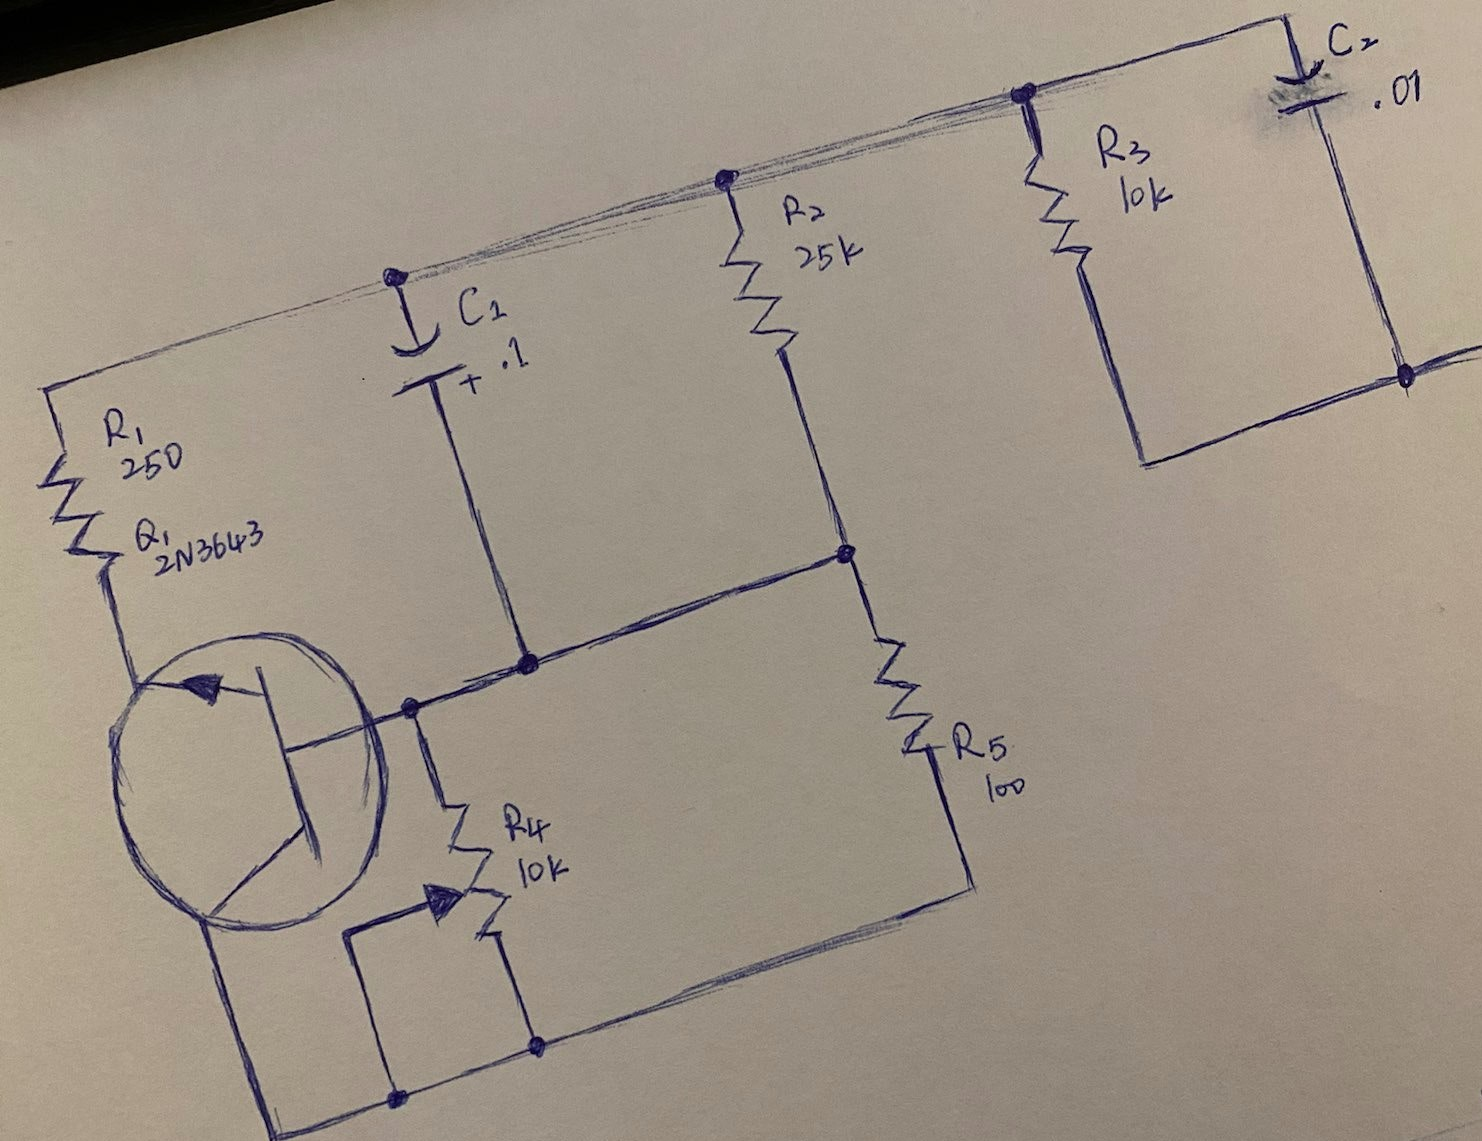capacitor.polarized: (388, 322, 485, 402)
capacitor.unpolarized: (1270, 61, 1348, 116)
junction: (1002, 73, 1058, 117), (954, 871, 1008, 916), (821, 535, 870, 580), (373, 250, 419, 292), (1387, 348, 1424, 400), (247, 1109, 306, 1141), (503, 647, 550, 686), (388, 692, 434, 730), (707, 157, 745, 201), (1121, 437, 1160, 482), (513, 1027, 557, 1065), (377, 1080, 419, 1118), (26, 372, 67, 410), (331, 922, 369, 956), (1256, 5, 1301, 31)
resistor: (32, 443, 120, 579), (718, 227, 793, 357), (869, 632, 940, 766), (1017, 151, 1091, 276)
resistor.adjustable: (413, 793, 515, 943)
terminal: (1444, 330, 1482, 375)
text: (153, 519, 278, 580), (794, 233, 869, 283), (1113, 171, 1176, 224), (1091, 119, 1153, 169), (115, 443, 190, 483), (1373, 68, 1430, 119), (952, 718, 1011, 763), (1326, 17, 1384, 60), (92, 404, 149, 447), (502, 799, 556, 844), (456, 283, 509, 327), (514, 855, 574, 891), (778, 188, 828, 230), (982, 769, 1030, 804), (498, 336, 536, 375), (134, 517, 173, 553)
transistor: (81, 630, 393, 940)
